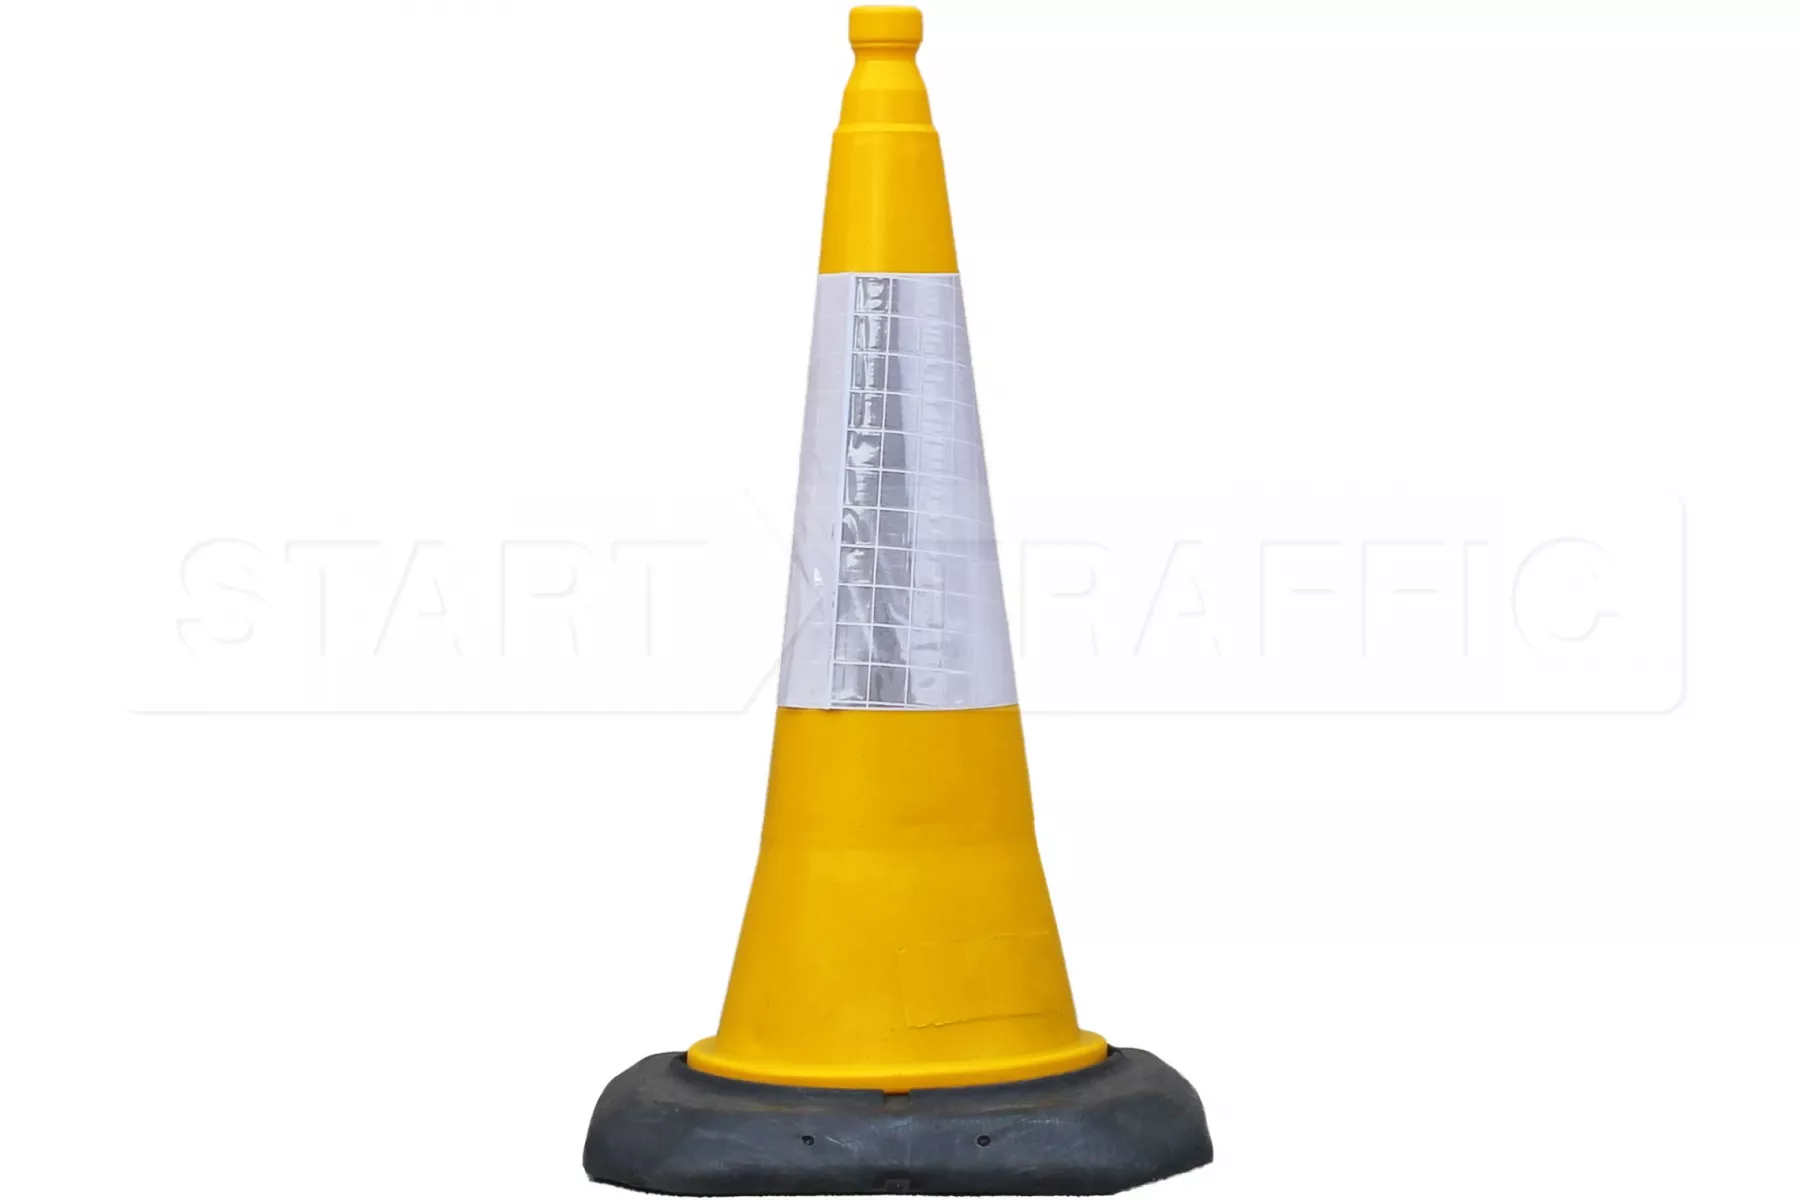cone: (583, 1, 1229, 1197)
